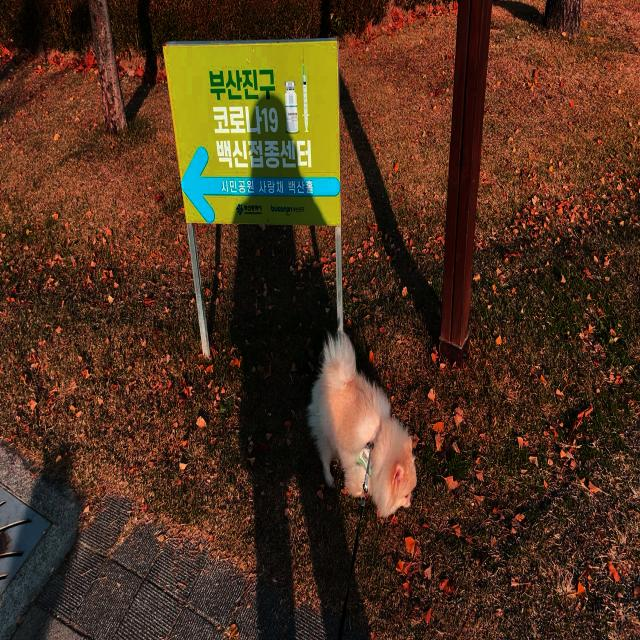Dog: (306, 330, 418, 521)
